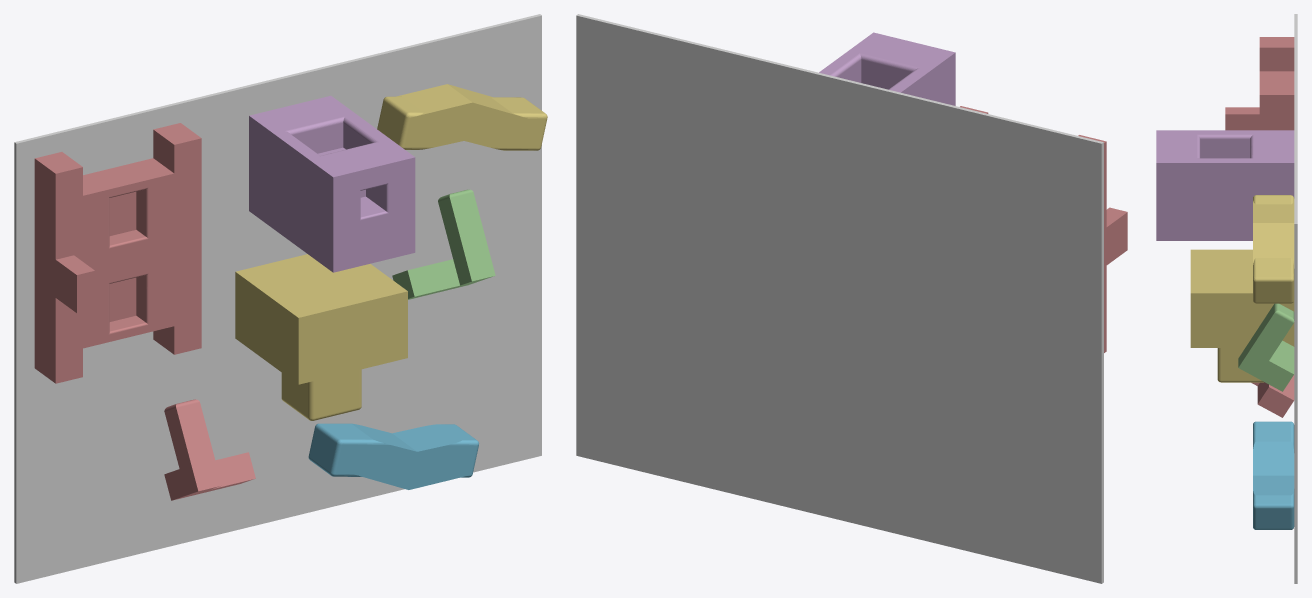
The model's file is pickup_layout.glb.
3 renders of one model, left to right at view 1: azimuth 30°, elevation 25°; view 2: azimuth 150°, elevation 25°; view 3: azimuth 270°, elevation 25°, orthographic. The views are drawn at different scales.
Parts seen in each view (by area): view 1: world, 0.obj, 3.obj, 6.obj, 2.obj, 1.obj, 4.obj, 5.obj; view 2: world, 3.obj, 0.obj; view 3: 3.obj, 6.obj, 1.obj, 2.obj, 0.obj, 4.obj, world, 5.obj.
Boxes of the visible parts, box(x1,y1,x2,y2) form: world: box(14, 14, 541, 583); 0.obj: box(34, 123, 201, 383); 3.obj: box(249, 95, 415, 272); 6.obj: box(235, 254, 407, 420); 2.obj: box(308, 423, 478, 489); 1.obj: box(377, 84, 547, 150); 4.obj: box(392, 189, 495, 299); 5.obj: box(164, 399, 255, 500); world: box(576, 14, 1103, 583); 3.obj: box(819, 32, 955, 105); 0.obj: box(960, 106, 1127, 352); 3.obj: box(1156, 130, 1294, 240); 6.obj: box(1190, 249, 1294, 382); 1.obj: box(1253, 195, 1294, 303); 2.obj: box(1253, 421, 1294, 529); 0.obj: box(1225, 37, 1294, 130); 4.obj: box(1238, 303, 1294, 391); world: box(1294, 14, 1297, 583); 5.obj: box(1251, 375, 1294, 417).
Size of the model in its own units: 28.82 by 23.06 by 8.2.
